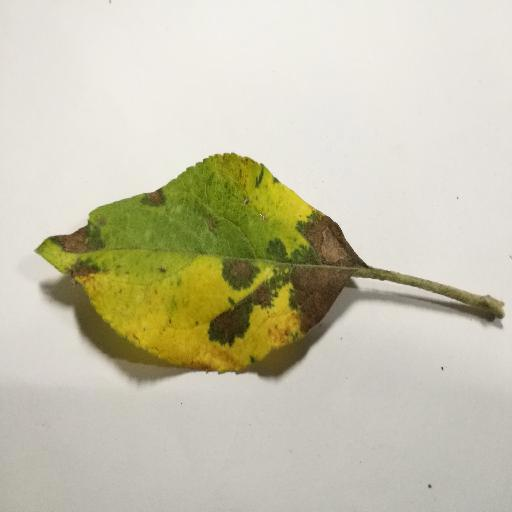Brown_Spot: (275, 213, 364, 337), (43, 214, 108, 301), (210, 306, 260, 345), (139, 184, 172, 223), (224, 253, 252, 295)
